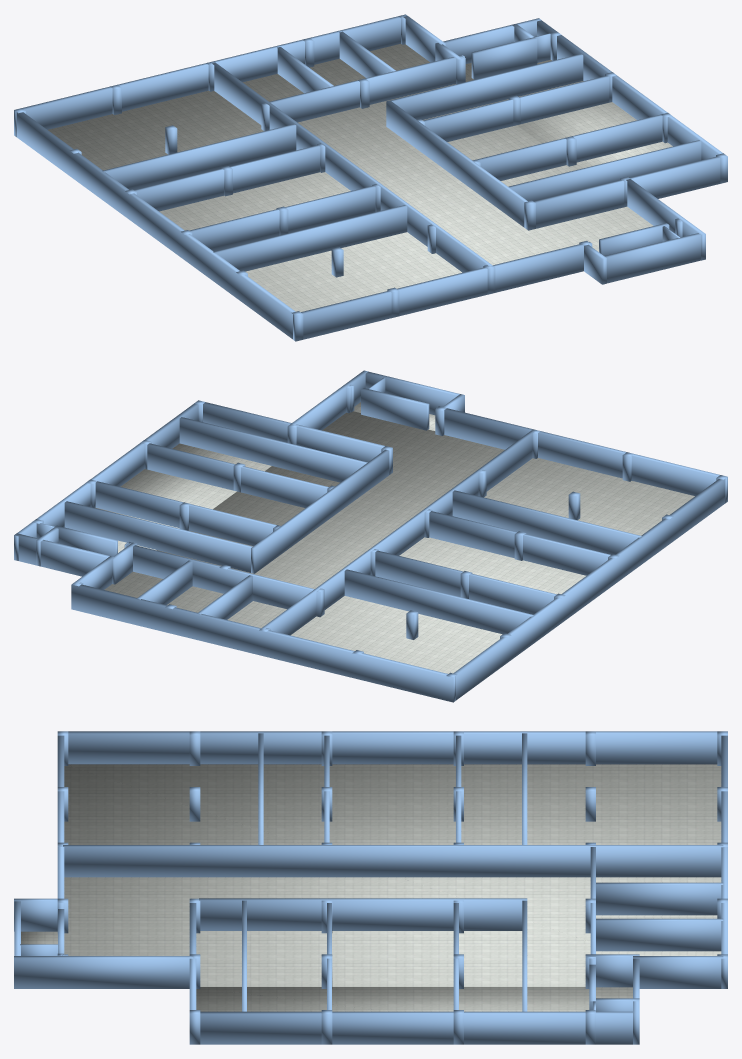
Rendered from wfa_-1f_mini.gltf.
3 renders of one model, top to bottom at view 1: azimuth 30°, elevation 25°; view 2: azimuth 150°, elevation 25°; view 3: azimuth 270°, elevation 25°, orthographic. The views are drawn at different scales.
Parts seen in each view (by area): view 1: wfa_dimian_b1f, wfa_qiang_b1f, wfa_qiang_b1f_60, wfa_qiang_b1f_59, wfa_qiang_b1f_63, wfa_qiang_b1f_55, wfa_qiang_b1f_47, wfa_qiang_b1f_58, wfa_qiang_b1f_49, wfa_qiang_b1f_46, wfa_qiang_b1f_57, wfa_qiang_b1f_45 (+14 smaller); view 2: wfa_dimian_b1f, wfa_qiang_b1f, wfa_qiang_b1f_60, wfa_qiang_b1f_59, wfa_qiang_b1f_63, wfa_qiang_b1f_47, wfa_qiang_b1f_58, wfa_qiang_b1f_44, wfa_qiang_b1f_55, wfa_qiang_b1f_45, wfa_qiang_b1f_56, wfa_qiang_b1f_46 (+14 smaller); view 3: wfa_dimian_b1f, wfa_qiang_b1f_63, wfa_qiang_b1f_60, wfa_qiang_b1f_50, wfa_qiang_b1f_48, wfa_qiang_b1f_40, wfa_qiang_b1f_61, wfa_qiang_b1f_62, wfa_qiang_b1f_54, wfa_qiang_b1f, wfa_qiang_b1f_59, wfa_qiang_b1f_38 (+13 smaller).
Part boxes in pixels (box(x1,y1,x2,y2)): wfa_dimian_b1f: box(48, 44, 672, 312); wfa_qiang_b1f: box(14, 16, 400, 136); wfa_qiang_b1f_60: box(16, 112, 295, 339); wfa_qiang_b1f_59: box(293, 242, 592, 341); wfa_qiang_b1f_63: box(212, 62, 492, 272); wfa_qiang_b1f_55: box(213, 205, 407, 271); wfa_qiang_b1f_47: box(390, 54, 583, 119); wfa_qiang_b1f_58: box(102, 124, 296, 189); wfa_qiang_b1f_49: box(533, 156, 720, 228); wfa_qiang_b1f_46: box(423, 75, 609, 141); wfa_qiang_b1f_57: box(134, 145, 320, 211); wfa_qiang_b1f_45: box(476, 114, 662, 180); wfa_dimian_b1f: box(95, 402, 694, 673); wfa_qiang_b1f: box(71, 584, 455, 702); wfa_qiang_b1f_60: box(453, 479, 725, 700); wfa_qiang_b1f_59: box(436, 406, 727, 503); wfa_qiang_b1f_63: box(261, 430, 534, 635); wfa_qiang_b1f_47: box(64, 501, 252, 572); wfa_qiang_b1f_58: box(344, 569, 533, 634); wfa_qiang_b1f_44: box(179, 417, 367, 482); wfa_qiang_b1f_55: box(452, 490, 641, 554); wfa_qiang_b1f_45: box(147, 443, 328, 507); wfa_qiang_b1f_56: box(429, 511, 610, 575); wfa_qiang_b1f_46: box(95, 481, 276, 545); wfa_dimian_b1f: box(21, 764, 721, 1011); wfa_qiang_b1f_63: box(63, 845, 723, 877); wfa_qiang_b1f_60: box(68, 731, 717, 764); wfa_qiang_b1f_50: box(200, 1011, 632, 1044); wfa_qiang_b1f_48: box(199, 898, 527, 930); wfa_qiang_b1f_40: box(14, 956, 193, 988); wfa_qiang_b1f_61: box(596, 918, 723, 951); wfa_qiang_b1f_62: box(596, 882, 723, 915); wfa_qiang_b1f_54: box(633, 956, 723, 988); wfa_qiang_b1f: box(721, 735, 727, 988); wfa_qiang_b1f_59: box(57, 735, 64, 933); wfa_qiang_b1f_38: box(14, 898, 57, 931).
Size of the model in its own units: 139 by 7.03 by 148.
Materials: 2 (1 with a texture image).
